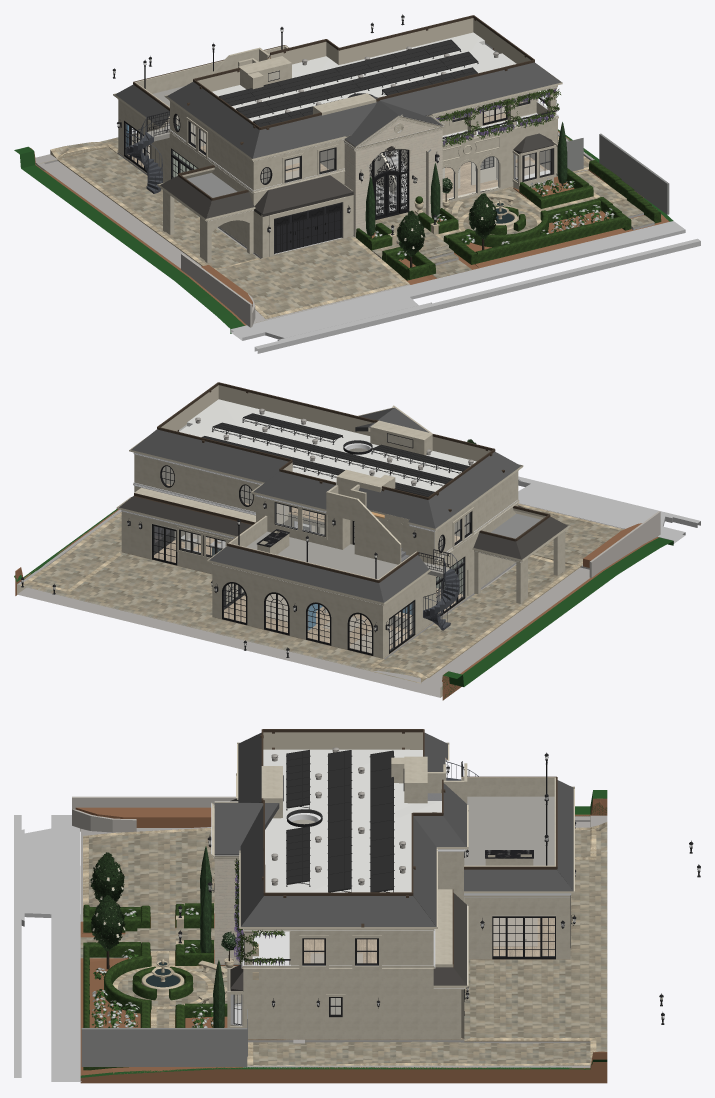
Rendered from exterior-house-08bc5eca57ad.glb.
The picture shows the model from 3 angles, top to bottom: view 1: azimuth 30°, elevation 25°; view 2: azimuth 150°, elevation 25°; view 3: azimuth 270°, elevation 25°; orthographic projection. The views are drawn at different scales.
Parts seen in each view (by area): view 1: exterior-house-2097c6bf0b01330b, exterior-house-b5dfe7249a3eb059, exterior-house-e7e6fa835f441169, exterior-house-27d577fbd7f2ff4b, exterior-house-aee2d046b0172b1e, exterior-house-772a07b3069847f0, exterior-house-e33d7b378dc851e2, exterior-house-d56ee2a9d54b1fc2, exterior-house-8ae50a6395ceb8a4, exterior-house-0b9d5d1cd0b2c60f, exterior-house-7cf8e5cfa8b264af, exterior-house-25c3ff3929e46046 (+47 smaller); view 2: exterior-house-37d1b262fca80116, exterior-house-8ae50a6395ceb8a4, exterior-house-d56ee2a9d54b1fc2, exterior-house-27d577fbd7f2ff4b, exterior-house-969b861f9850351e, exterior-house-aee2d046b0172b1e, exterior-house-c91f911e25c8cae7, exterior-house-5febae1537653d02, exterior-house-b5dfe7249a3eb059, exterior-house-3763e2fb8578d282, exterior-house-2c1fd33d433632d0, exterior-house-0cae3eb2f2d52fad (+40 smaller); view 3: exterior-house-37d1b262fca80116, exterior-house-aee2d046b0172b1e, exterior-house-b5dfe7249a3eb059, exterior-house-d56ee2a9d54b1fc2, exterior-house-2097c6bf0b01330b, exterior-house-2c1fd33d433632d0, exterior-house-07f5bde4319b7ab4, exterior-house-e7e6fa835f441169, exterior-house-a75a0c9c223328ee, exterior-house-ded88bd99590d377, exterior-house-af97eba351c411ae, exterior-house-e706aa16b4547c37 (+54 smaller).
Boxes of the visible parts, x1,y1,x2,y2 form: exterior-house-2097c6bf0b01330b: (216,236,409,318); exterior-house-b5dfe7249a3eb059: (230,221,685,340); exterior-house-e7e6fa835f441169: (356,182,625,280); exterior-house-27d577fbd7f2ff4b: (57,147,260,269); exterior-house-aee2d046b0172b1e: (14,129,673,333); exterior-house-772a07b3069847f0: (254,238,700,353); exterior-house-e33d7b378dc851e2: (380,62,560,115); exterior-house-d56ee2a9d54b1fc2: (212,32,516,121); exterior-house-8ae50a6395ceb8a4: (35,132,594,323); exterior-house-0b9d5d1cd0b2c60f: (236,51,478,118); exterior-house-7cf8e5cfa8b264af: (218,39,461,105); exterior-house-25c3ff3929e46046: (253,101,377,158); exterior-house-37d1b262fca80116: (20,552,427,683); exterior-house-8ae50a6395ceb8a4: (17,503,624,697); exterior-house-d56ee2a9d54b1fc2: (181,399,476,491); exterior-house-27d577fbd7f2ff4b: (377,555,580,677); exterior-house-969b861f9850351e: (212,566,380,657); exterior-house-aee2d046b0172b1e: (14,509,673,700); exterior-house-c91f911e25c8cae7: (131,429,288,482); exterior-house-5febae1537653d02: (209,546,383,602); exterior-house-b5dfe7249a3eb059: (518,484,685,543); exterior-house-3763e2fb8578d282: (134,454,259,512); exterior-house-2c1fd33d433632d0: (28,512,121,589); exterior-house-0cae3eb2f2d52fad: (428,451,520,528); exterior-house-37d1b262fca80116: (464,822,607,1064); exterior-house-aee2d046b0172b1e: (80,790,607,1083); exterior-house-b5dfe7249a3eb059: (24,815,81,1081); exterior-house-d56ee2a9d54b1fc2: (263,749,441,892); exterior-house-2097c6bf0b01330b: (83,828,214,921); exterior-house-2c1fd33d433632d0: (247,1041,590,1065); exterior-house-07f5bde4319b7ab4: (81,1028,247,1066); exterior-house-e7e6fa835f441169: (83,903,227,1027); exterior-house-a75a0c9c223328ee: (241,896,436,926); exterior-house-ded88bd99590d377: (464,796,554,865); exterior-house-af97eba351c411ae: (372,979,461,1038); exterior-house-e706aa16b4547c37: (464,897,567,959).
Bounding box in the file's own units: 31.9 × 8.68 × 35.2.
Materials: 109 (32 with a texture image).
